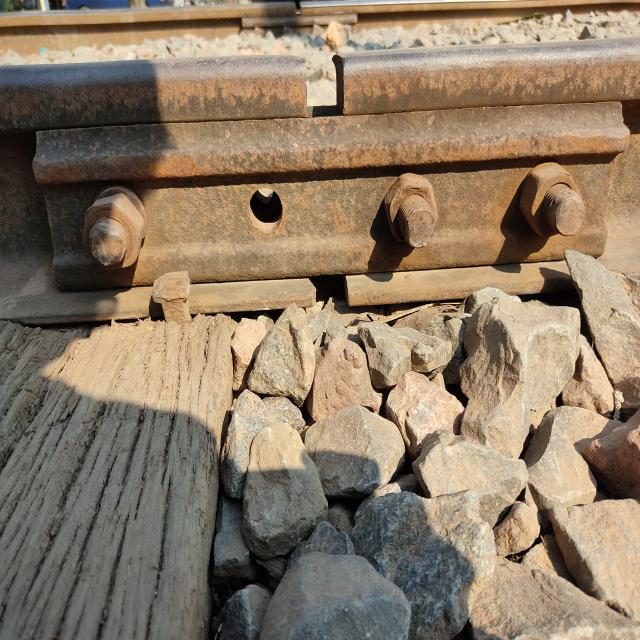Faults: (289, 47, 362, 119), (238, 164, 293, 243)
